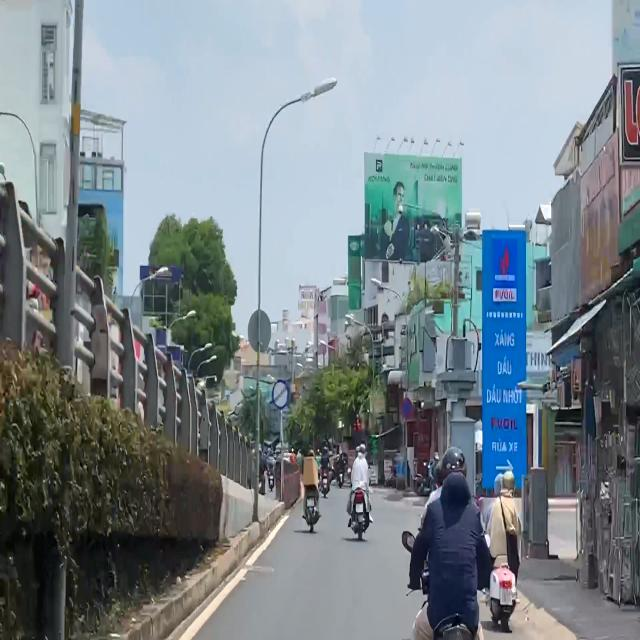Het tat ca lenh cam: (272, 379, 288, 409)
